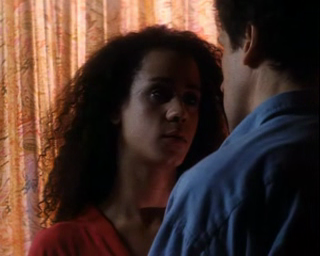cu: (1, 1, 320, 256)
face: (131, 62, 199, 167)
ots: (146, 1, 320, 256)
person: (27, 24, 230, 256)
